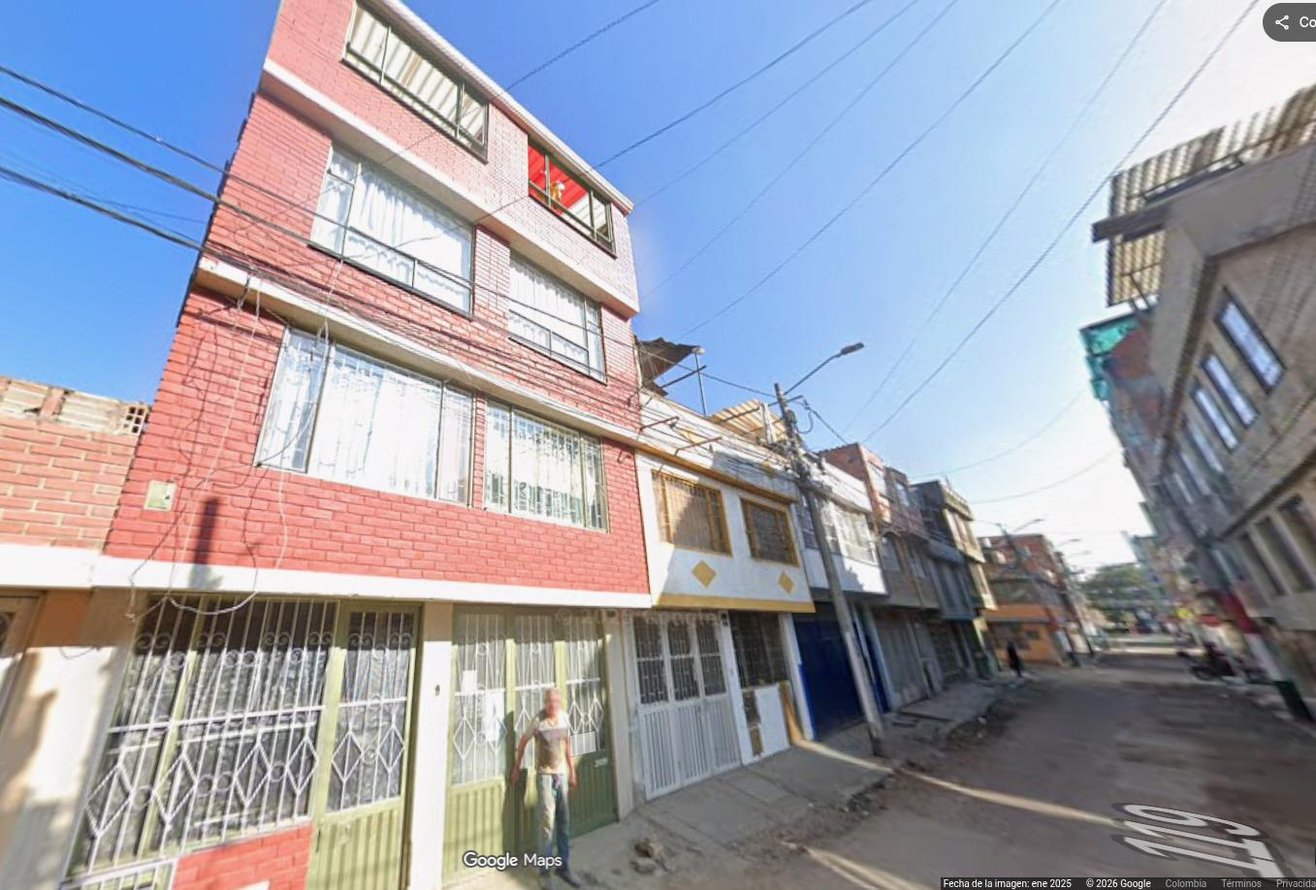casa: (66, 0, 650, 889), (626, 391, 815, 797)
poste: (774, 342, 885, 757)
